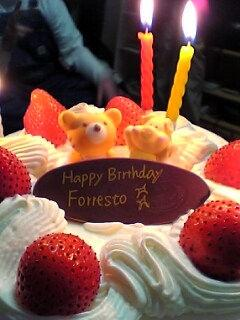strawberry: (16, 232, 100, 314), (178, 202, 240, 284), (22, 88, 68, 144), (105, 96, 141, 146), (1, 146, 32, 203), (205, 140, 240, 188)
